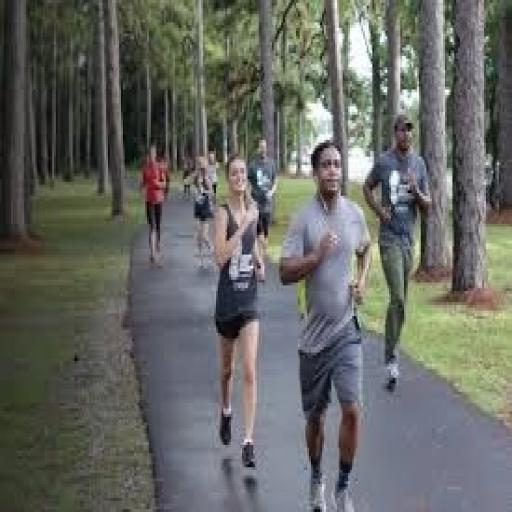running: (278, 137, 374, 509), (361, 109, 436, 395), (209, 151, 268, 473)
